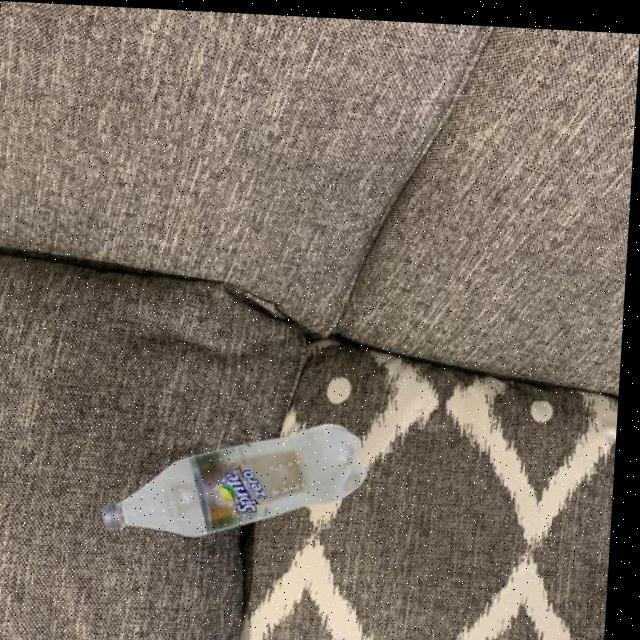bottle: (105, 405, 376, 545)
